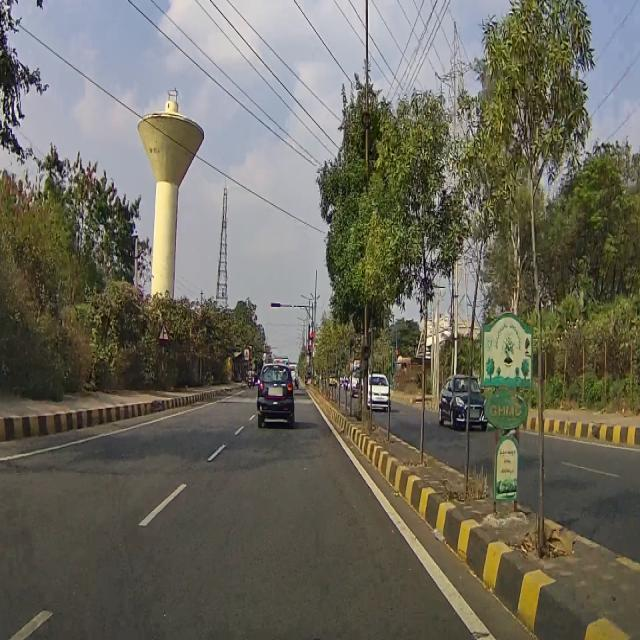car ahead at: (255, 361, 299, 431)
